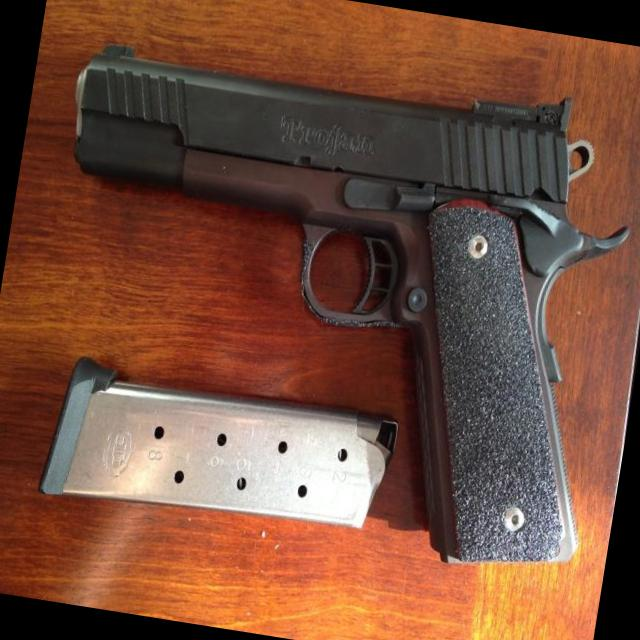Gun: (73, 37, 635, 561)
